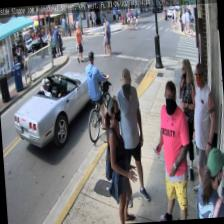person: (148, 79, 195, 220), (113, 66, 150, 206), (183, 61, 220, 196), (102, 95, 140, 224), (169, 58, 202, 182)
